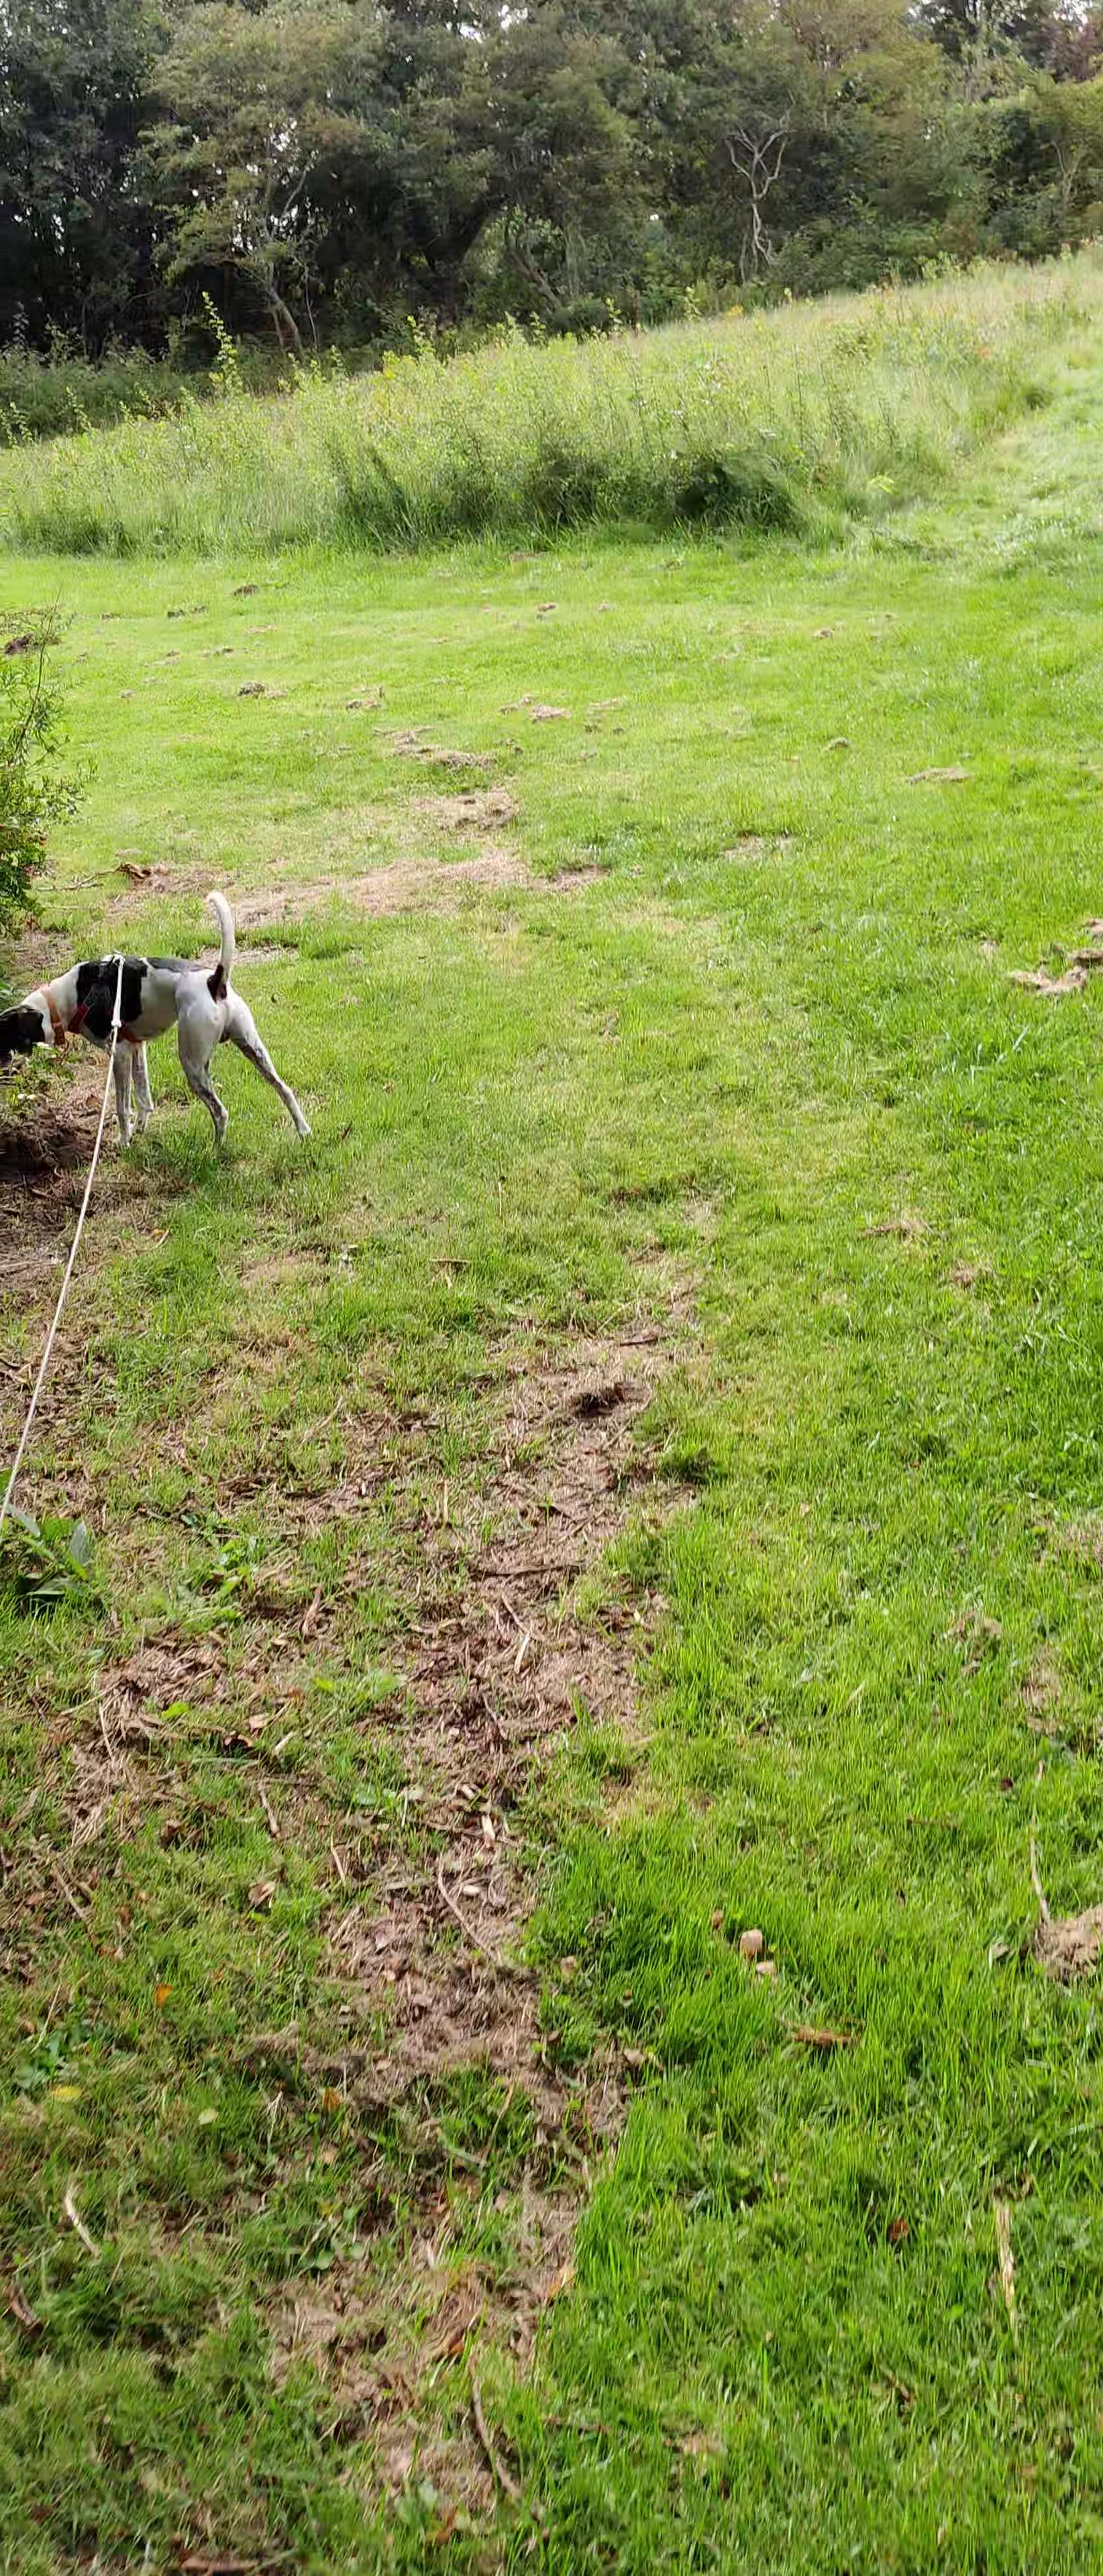Dog: (0, 884, 334, 1166)
